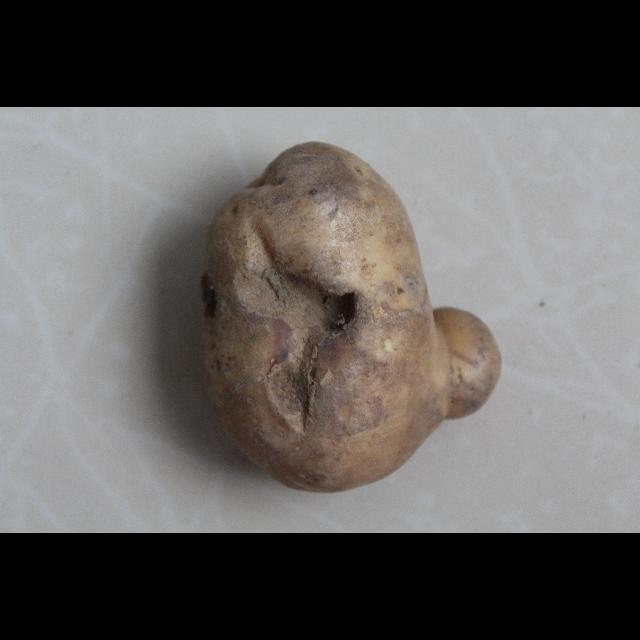Diseased-fungal potato: (137, 142, 445, 494)
